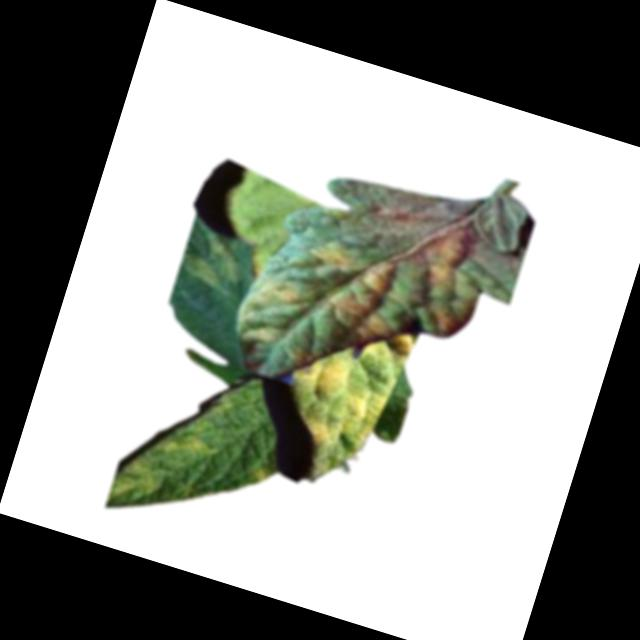Leaf_Mold: (280, 302, 418, 465), (331, 247, 403, 322), (420, 220, 478, 294), (108, 456, 165, 512), (156, 423, 219, 465), (308, 233, 364, 274), (258, 274, 314, 313), (252, 469, 269, 488)
